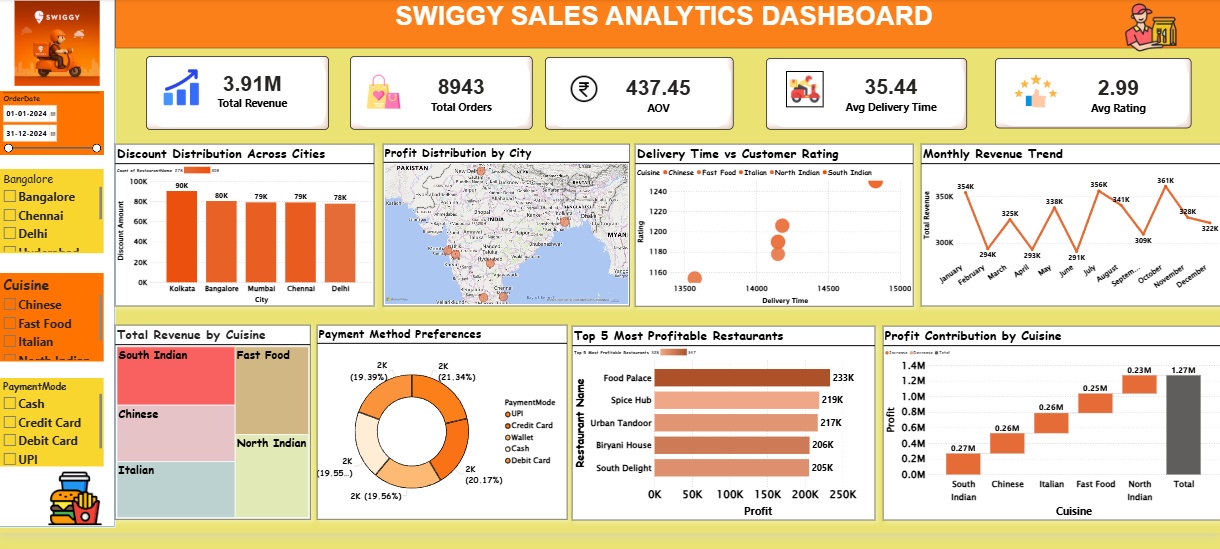

The dashboard page shown, as its layout file describes it:
{"tool":"powerbi","page":{"name":"Page 1","canvas":[4000,1616],"ordinal":0},"visuals":[{"type":"shape","box":[0,0,353.5,1617],"z":0},{"type":"shape","box":[443.7,172,553.8,223.6],"z":1000},{"type":"shape","box":[1063.3,171.3,552.7,223],"z":2000},{"type":"shape","box":[1654.4,175.4,571,220.1],"z":3000},{"type":"shape","box":[2321.7,178.9,608.8,216.7],"z":4000},{"type":"shape","box":[3018,173.5,592.5,212.8],"z":5000},{"type":"image","box":[1722.7,226.2,97,90.5],"z":6000},{"type":"card","fields":{"Values":["Sheet1.Total Revenue"]},"box":[591.5,174.5,352.3,190.7],"z":7000},{"type":"card","fields":{"Values":["Sheet1.Total Orders"]},"box":[1241.1,177.8,316.7,206.8],"z":8000},{"type":"card","fields":{"Values":["Sheet1.AOV"]},"box":[1835.8,197.2,323.2,177.8],"z":9000},{"type":"card","fields":{"Values":["Sheet1.Avg Delivery Time"]},"box":[2548.7,202.9,302.7,154.8],"z":10000},{"type":"card","fields":{"Values":["Sheet1.Avg Rating"]},"box":[3217.7,196.4,350.2,176.8],"z":11000},{"type":"image","box":[1086,223,155.1,113.1],"z":12000},{"type":"image","box":[488,197.2,129.3,142.2],"z":13000},{"type":"image","box":[2383.6,216.7,113.5,110.1],"z":14000},{"type":"image","box":[3090,206.2,150.6,160.4],"z":15000},{"type":"textbox","box":[353.5,0,3646.5,147.3],"z":16000},{"type":"lineChart","title":"Monthly Revenue Trend","fields":{"Category":["Sheet1.OrderDate_new .Variation.Date Hierarchy.Month"],"Y":["Sheet1.Total Revenue"]},"box":[2808.5,451.7,1168.6,491],"z":17000},{"type":"treemap","fields":{"Group":["Sheet1.Cuisine"],"Values":["Sheet1.Total Revenue"]},"box":[376.4,988.5,635,589.2],"z":18000},{"type":"donutChart","title":"Payment Method Preferences","fields":{"Category":["Sheet1.PaymentMode"],"Y":["Sum(Sheet1.OrdersCount)"]},"box":[1047.5,988.5,772.5,589.2],"z":19000},{"type":"clusteredBarChart","title":"Top 5 Most Profitable Restaurants","fields":{"Category":["Sheet1.RestaurantName"],"Y":["Sum(Sheet1.Profit)"]},"box":[1846.2,988.5,1070.4,589.2],"z":20000},{"type":"scatterChart","title":"Delivery Time vs Customer Rating","fields":{"X":["Sum(Sheet1.DeliveryTime)"],"Y":["Sum(Sheet1.CustomerRating)"],"Size":["Sum(Sheet1.FinalSalesAmount)"],"Series":["Sheet1.Cuisine"]},"box":[1950.9,451.7,844.5,491],"z":21000},{"type":"clusteredColumnChart","title":"Discount Distribution Across Cities","fields":{"Y":["Sum(Sheet1.DiscountAmount)"],"Category":["Sheet1.City"]},"box":[376.4,451.7,785.6,491],"z":22000},{"type":"waterfallChart","title":"Profit Contribution by Cuisine","fields":{"Category":["Sheet1.Cuisine"],"Y":["Sum(Sheet1.Profit)"]},"box":[2929.6,988.5,1047.5,589.2],"z":23000},{"type":"map","title":"Profit Distribution by City","fields":{"Category":["Sheet1.City"],"Size":["Sum(Sheet1.Profit)"]},"box":[1181.7,451.7,749.6,491],"z":24000},{"type":"slicer","fields":{"Values":["Sheet1.OrderDate_new "]},"box":[0,278.8,353.2,211.9],"z":25000},{"type":"slicer","fields":{"Values":["Sheet1.Cuisine"]},"box":[0,831.4,353.5,268.4],"z":26000},{"type":"slicer","fields":{"Values":["Sheet1.PaymentMode"]},"box":[0,1126,353.5,265.1],"z":27000},{"type":"image","box":[0,0,352.3,268.3],"z":28000},{"type":"image","box":[3630.1,0,369.9,189.9],"z":29000},{"type":"image","box":[134.2,1420.6,183.3,180],"z":30000},{"type":"image","box":[3630,190,370,196],"z":31000},{"type":"slicer","fields":{"Values":["Sheet1.City"]},"box":[0,530.3,353.5,268.4],"z":32000}]}

Visuals, with their boxes on the page's 4000x1616 design canvas (x1, y1, x2, y2). These are canvas units, not pixel positions in the 1220x549 screenshot, which may show the page scaled, cropped or inside an application window:
shape: pyautogui.locateOnScreen(0, 0, 354, 1617)
shape: pyautogui.locateOnScreen(444, 172, 998, 396)
shape: pyautogui.locateOnScreen(1063, 171, 1616, 394)
shape: pyautogui.locateOnScreen(1654, 175, 2225, 396)
shape: pyautogui.locateOnScreen(2322, 179, 2930, 396)
shape: pyautogui.locateOnScreen(3018, 174, 3610, 386)
image: pyautogui.locateOnScreen(1723, 226, 1820, 317)
card - Sheet1.Total Revenue: pyautogui.locateOnScreen(592, 174, 944, 365)
card - Sheet1.Total Orders: pyautogui.locateOnScreen(1241, 178, 1558, 385)
card - Sheet1.AOV: pyautogui.locateOnScreen(1836, 197, 2159, 375)
card - Sheet1.Avg Delivery Time: pyautogui.locateOnScreen(2549, 203, 2851, 358)
card - Sheet1.Avg Rating: pyautogui.locateOnScreen(3218, 196, 3568, 373)
image: pyautogui.locateOnScreen(1086, 223, 1241, 336)
image: pyautogui.locateOnScreen(488, 197, 617, 339)
image: pyautogui.locateOnScreen(2384, 217, 2497, 327)
image: pyautogui.locateOnScreen(3090, 206, 3241, 367)
textbox: pyautogui.locateOnScreen(354, 0, 4000, 147)
"Monthly Revenue Trend" lineChart: pyautogui.locateOnScreen(2808, 452, 3977, 943)
treemap - Sheet1.Cuisine x Sheet1.Total Revenue: pyautogui.locateOnScreen(376, 988, 1011, 1578)
"Payment Method Preferences" donutChart: pyautogui.locateOnScreen(1048, 988, 1820, 1578)
"Top 5 Most Profitable Restaurants" clusteredBarChart: pyautogui.locateOnScreen(1846, 988, 2917, 1578)
"Delivery Time vs Customer Rating" scatterChart: pyautogui.locateOnScreen(1951, 452, 2795, 943)
"Discount Distribution Across Cities" clusteredColumnChart: pyautogui.locateOnScreen(376, 452, 1162, 943)
"Profit Contribution by Cuisine" waterfallChart: pyautogui.locateOnScreen(2930, 988, 3977, 1578)
"Profit Distribution by City" map: pyautogui.locateOnScreen(1182, 452, 1931, 943)
slicer - Sheet1.OrderDate_new : pyautogui.locateOnScreen(0, 279, 353, 491)
slicer - Sheet1.Cuisine: pyautogui.locateOnScreen(0, 831, 354, 1100)
slicer - Sheet1.PaymentMode: pyautogui.locateOnScreen(0, 1126, 354, 1391)
image: pyautogui.locateOnScreen(0, 0, 352, 268)
image: pyautogui.locateOnScreen(3630, 0, 4000, 190)
image: pyautogui.locateOnScreen(134, 1421, 318, 1601)
image: pyautogui.locateOnScreen(3630, 190, 4000, 386)
slicer - Sheet1.City: pyautogui.locateOnScreen(0, 530, 354, 799)
